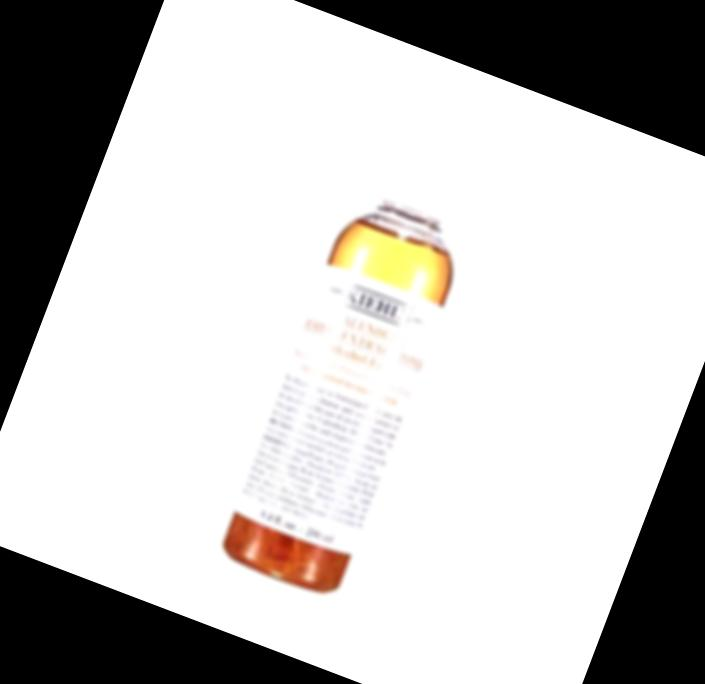cosmetic: (217, 113, 501, 602)
